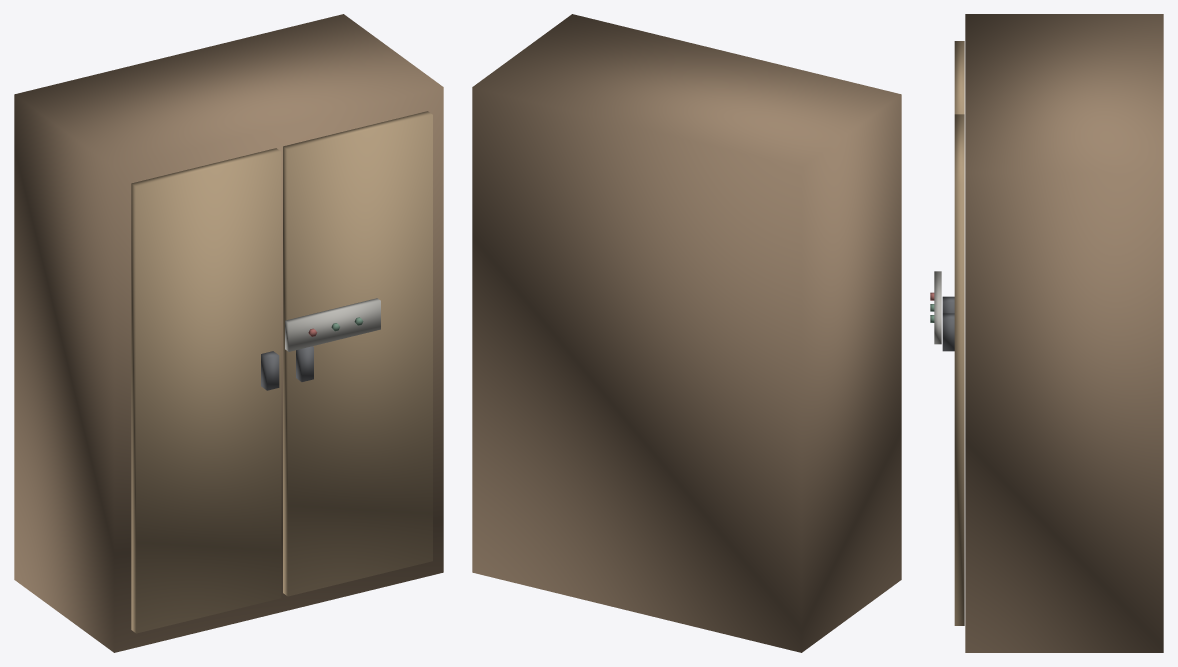
The model's file is map_cabinet__reinforced.glb.
3 renders of one model, left to right at view 1: azimuth 30°, elevation 25°; view 2: azimuth 150°, elevation 25°; view 3: azimuth 270°, elevation 25°, orthographic.
Parts seen in each view (by area): view 1: world; view 2: world; view 3: world.
Part boxes in pixels (x1=…): world: x1=14, y1=14, x2=443, y2=652; world: x1=472, y1=14, x2=901, y2=652; world: x1=930, y1=14, x2=1163, y2=652.
Bounding box in the file's own units: 0.9785 × 1.38 × 0.6062.
